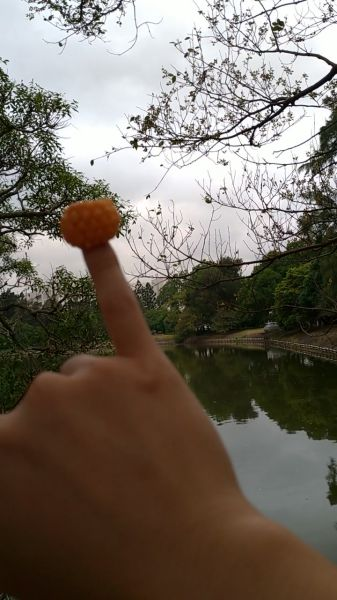eggs: (59, 197, 120, 248)
